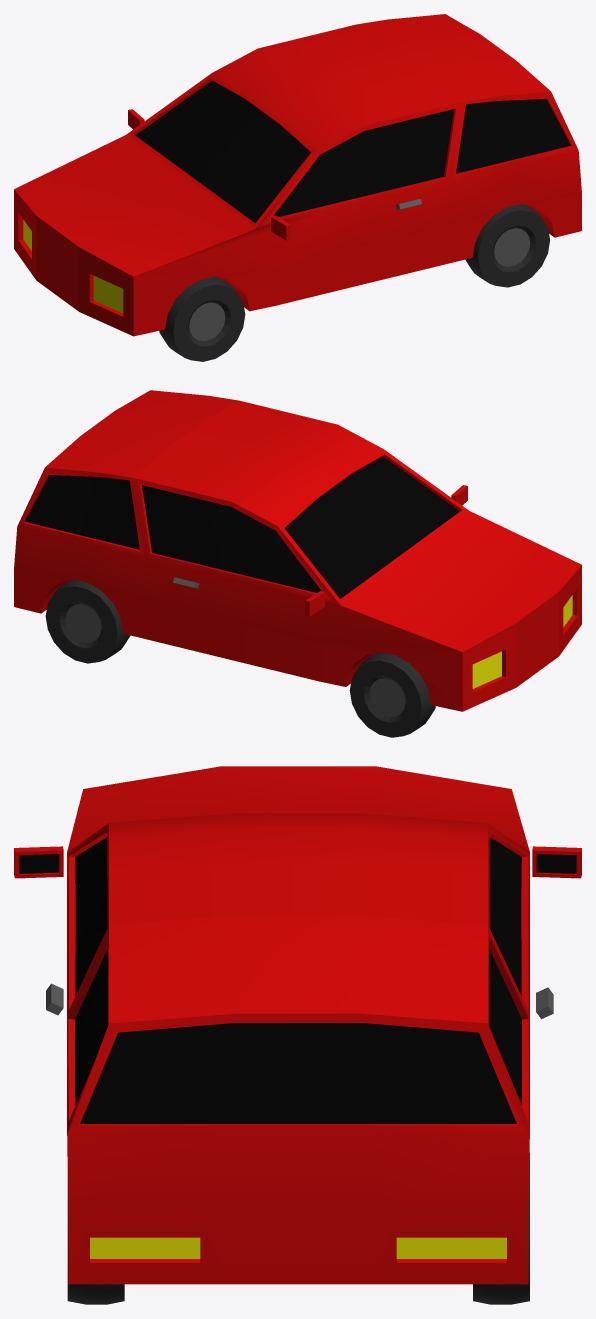
The model's file is Car 3.FBX.
3 renders of one model, top to bottom at view 1: azimuth 30°, elevation 25°; view 2: azimuth 150°, elevation 25°; view 3: azimuth 270°, elevation 25°, orthographic. The views are drawn at different scales.
Parts seen in each view (by area): view 1: Car 3; view 2: Car 3; view 3: Car 3.
Part boxes in pixels (bbox=[...]): Car 3: bbox=[14, 14, 581, 361]; Car 3: bbox=[14, 390, 581, 737]; Car 3: bbox=[14, 766, 581, 1304].
Bounding box in the file's own units: 10.01 × 4.01 × 5.97.
1 material, 1 textured.
